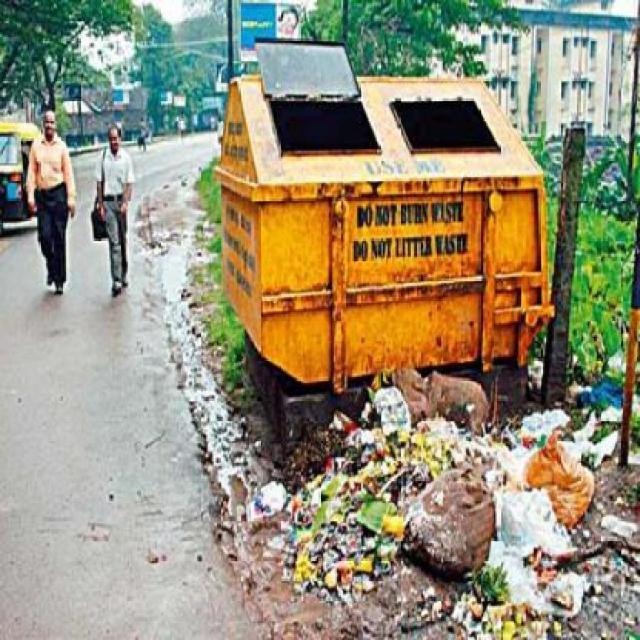garbage: (209, 356, 639, 640), (153, 279, 240, 406)
